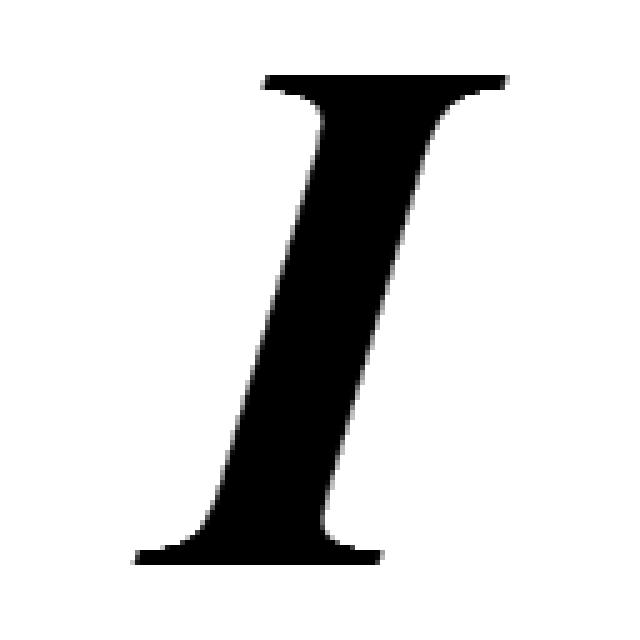I: (135, 75, 510, 570)
